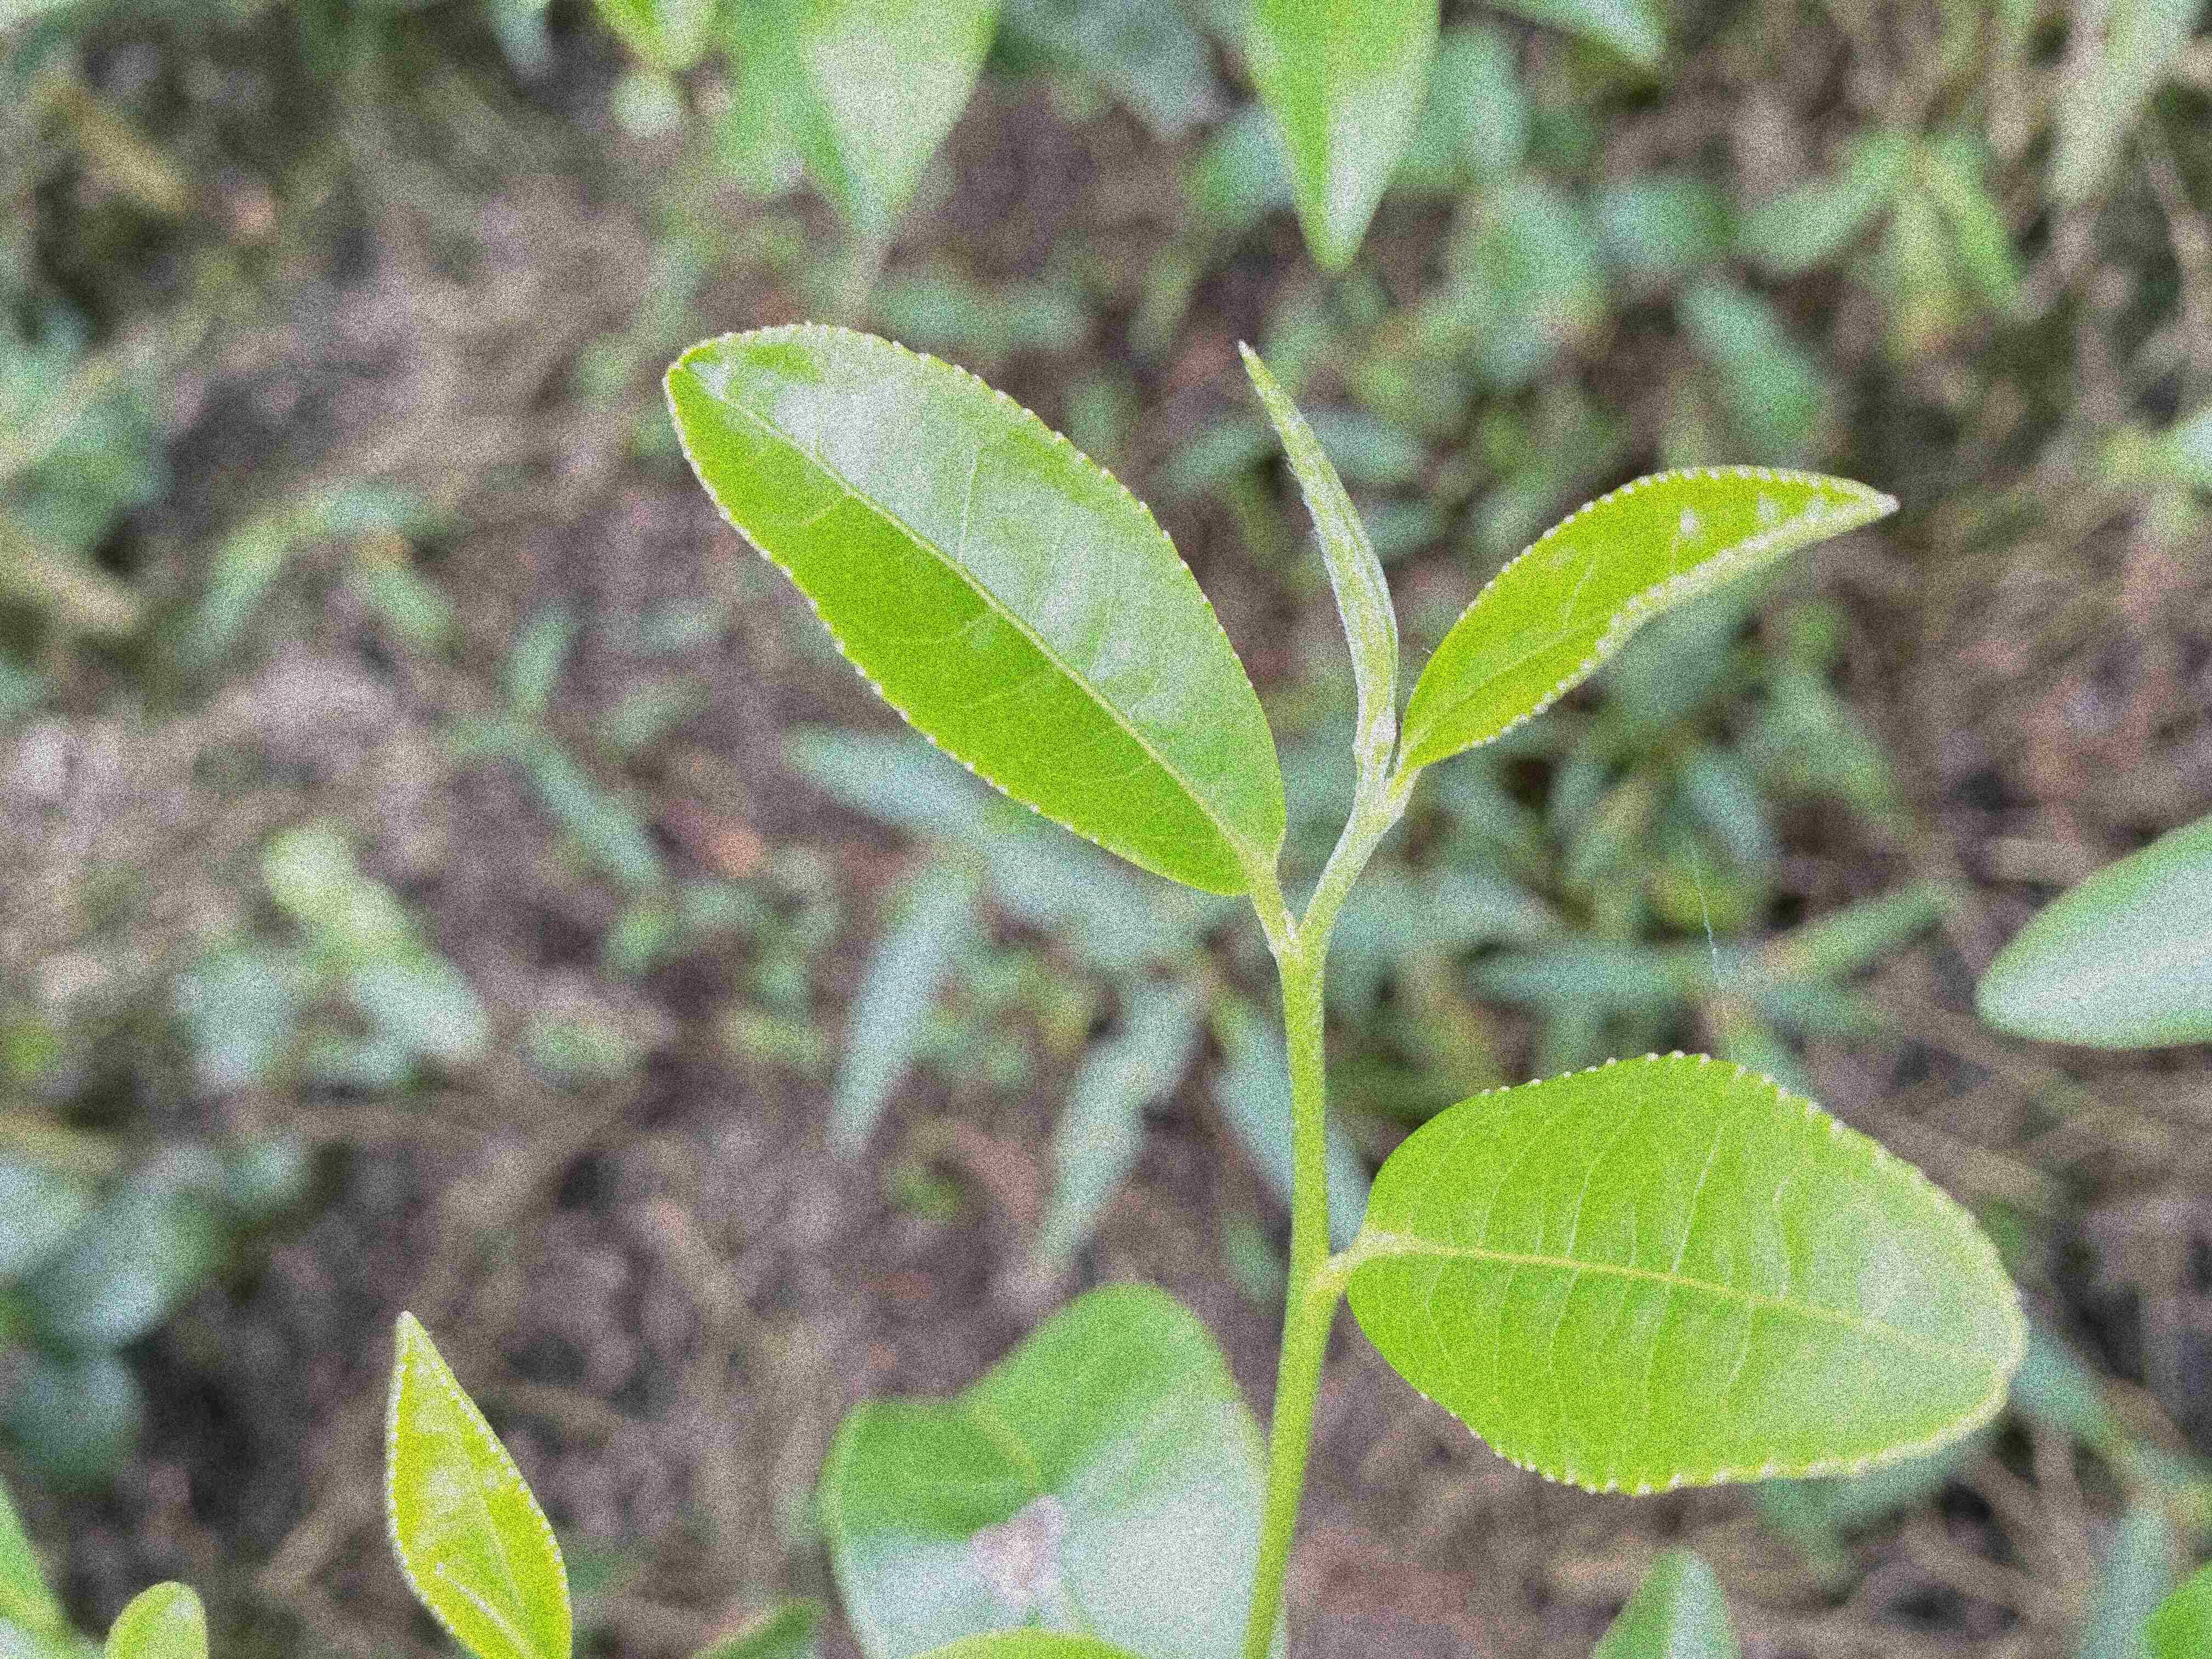healthy: (658, 319, 1292, 899), (1346, 1046, 2027, 1502), (1399, 464, 1898, 775)
tanju_high: (822, 1276, 1284, 1656)
